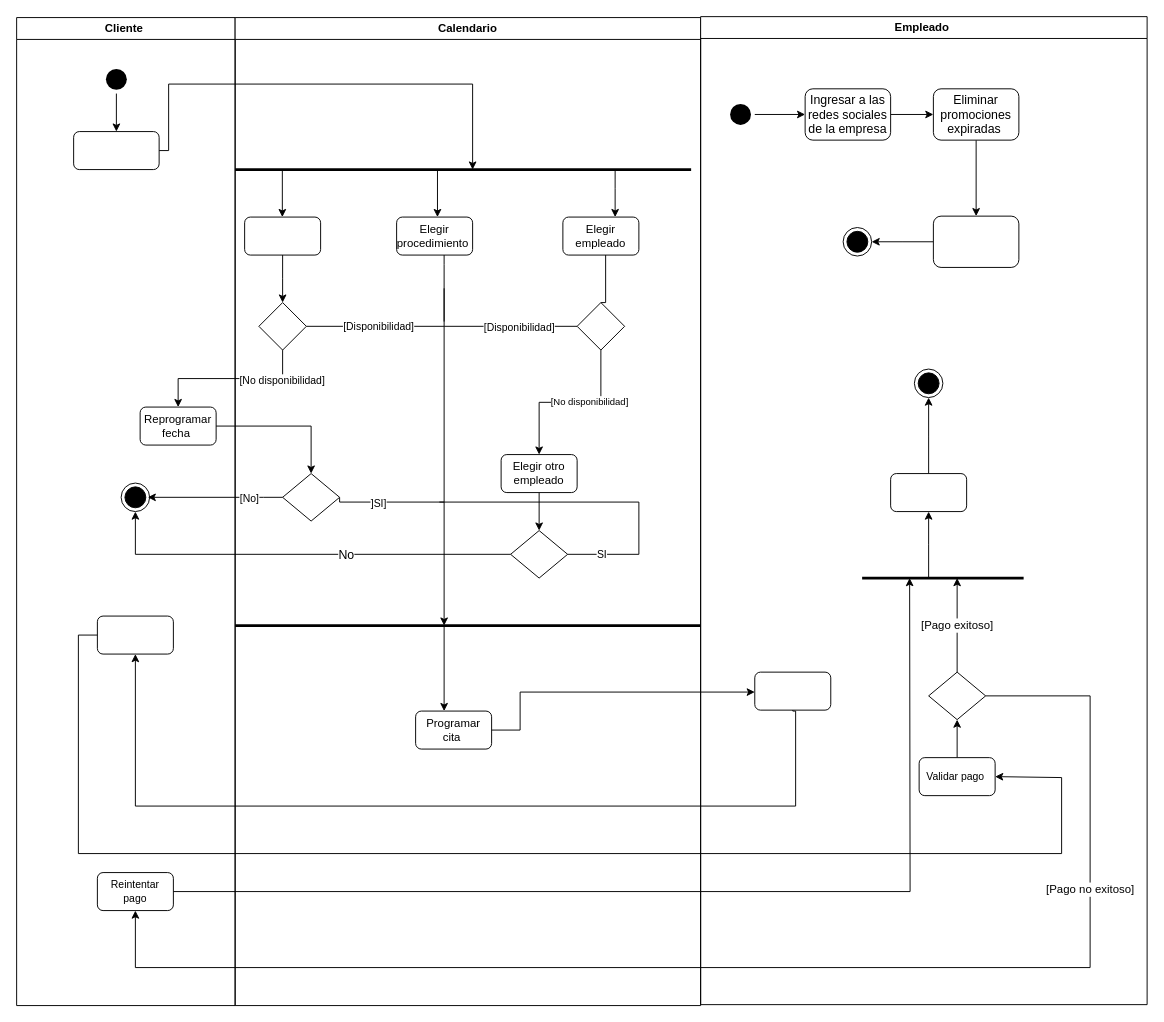
Image size: 1164x1022. Some labels were removed from this diagram. Here are the shapes that lost their labels. From the top down, the centre of each, then its label:
At pixel 116 150: "Iniciar sesion".
At pixel 282 235: "Elegir fecha".
At pixel 975 241: "Actualizar promociones".
At pixel 928 492: "Generar factura".
At pixel 134 634: "Realizar pago".
At pixel 792 690: "Realizar procedimiento".
